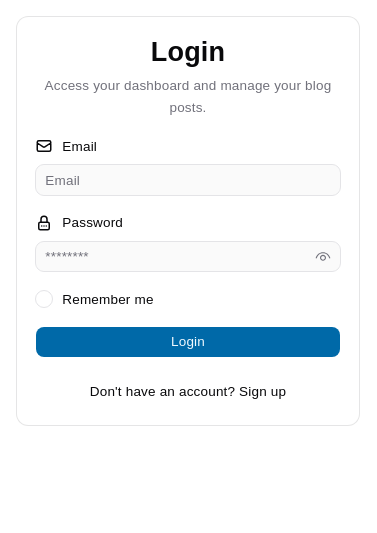
Scenario: Auth Page › handles rate limit with cooldown
Type "ratelimit@example.com" into the field labelled "Email". click: (188, 180)
box: [35,164,341,196]
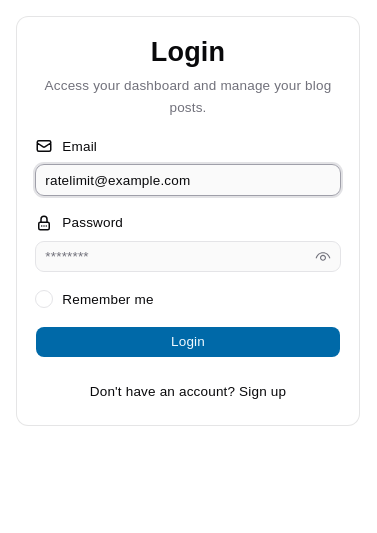
Type "password123" into the password field labelled "Password". click: (188, 257)
box: [35,241,341,272]
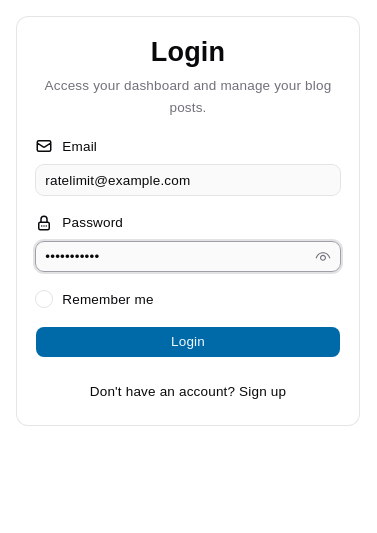
Click the button "Login". click: click(188, 342)
box: [35,326,341,358]
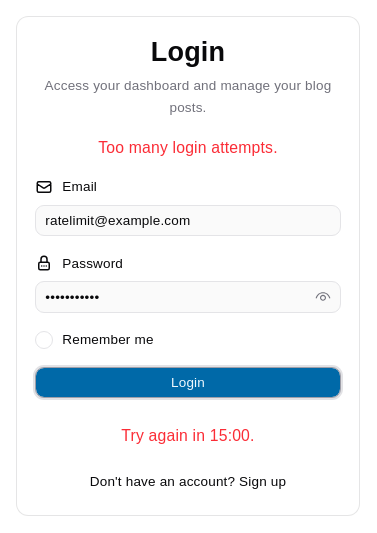
Expected: the text "Too many login attempts." is shown, [98,139,278,156]
Expected: the text "Try again in 15:00." is shown, [121,427,255,444]
